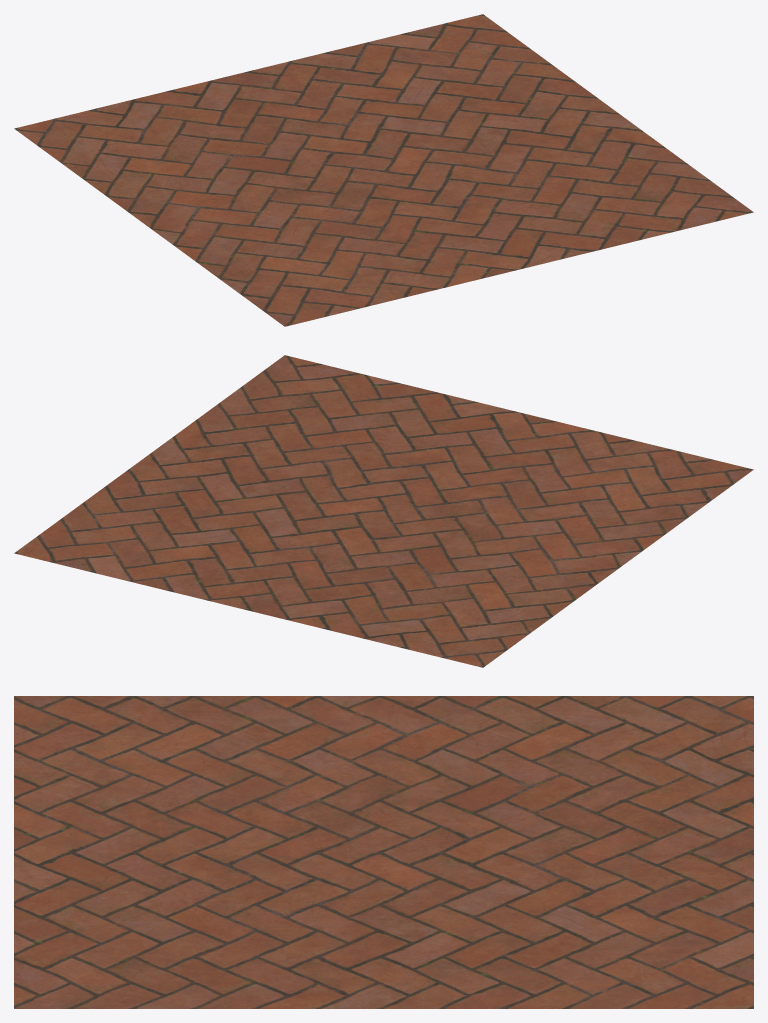
File: height-test.gltf
The picture shows the model from 3 angles, top to bottom: view 1: azimuth 30°, elevation 25°; view 2: azimuth 150°, elevation 25°; view 3: azimuth 270°, elevation 25°; orthographic projection. The views are drawn at different scales.
Visible parts, largest first — view 1: Plane; view 2: Plane; view 3: Plane.
Boxes of the visible parts, x1,y1,x2,y2 form: Plane: (14,14,753,326); Plane: (14,355,753,667); Plane: (14,696,753,1008).
Size of the model in its own units: 20 by 0 by 20.
Materials: 1 (1 with a texture image).
